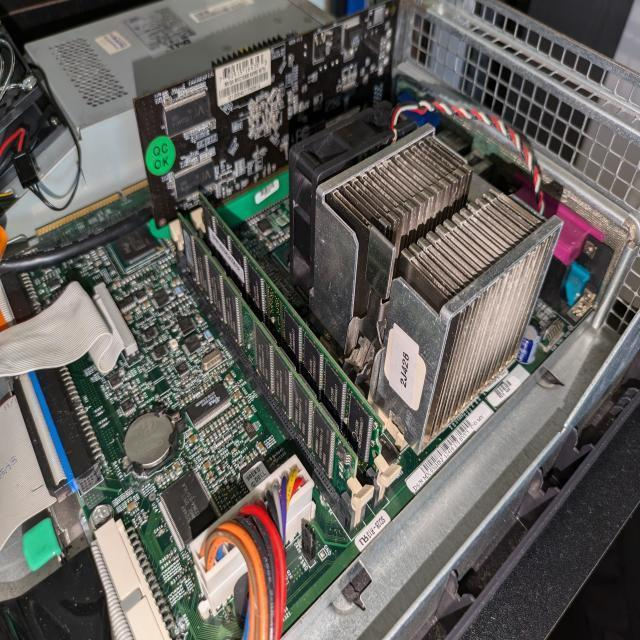CPU_Fan: (288, 98, 562, 456)
Mainboard: (2, 172, 537, 640)
RAM: (192, 188, 402, 516), (176, 211, 364, 546)
